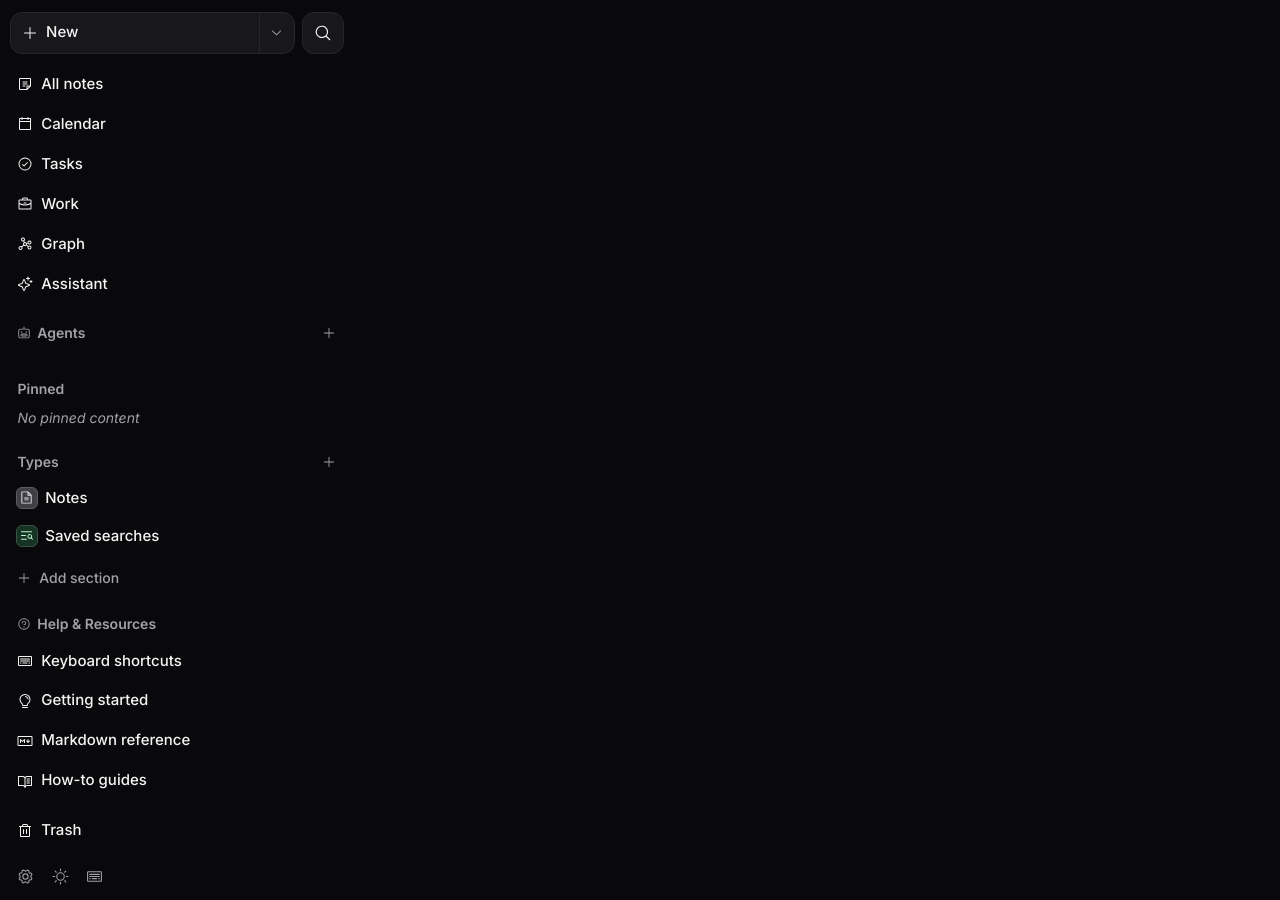
Test: Help & Resources (sidebar) › Keyboard shortcuts opens the Shortcuts sheet
The image size is (1280, 900).
Click the button "Keyboard shortcuts" at (177, 661), box [10,642,344,680]
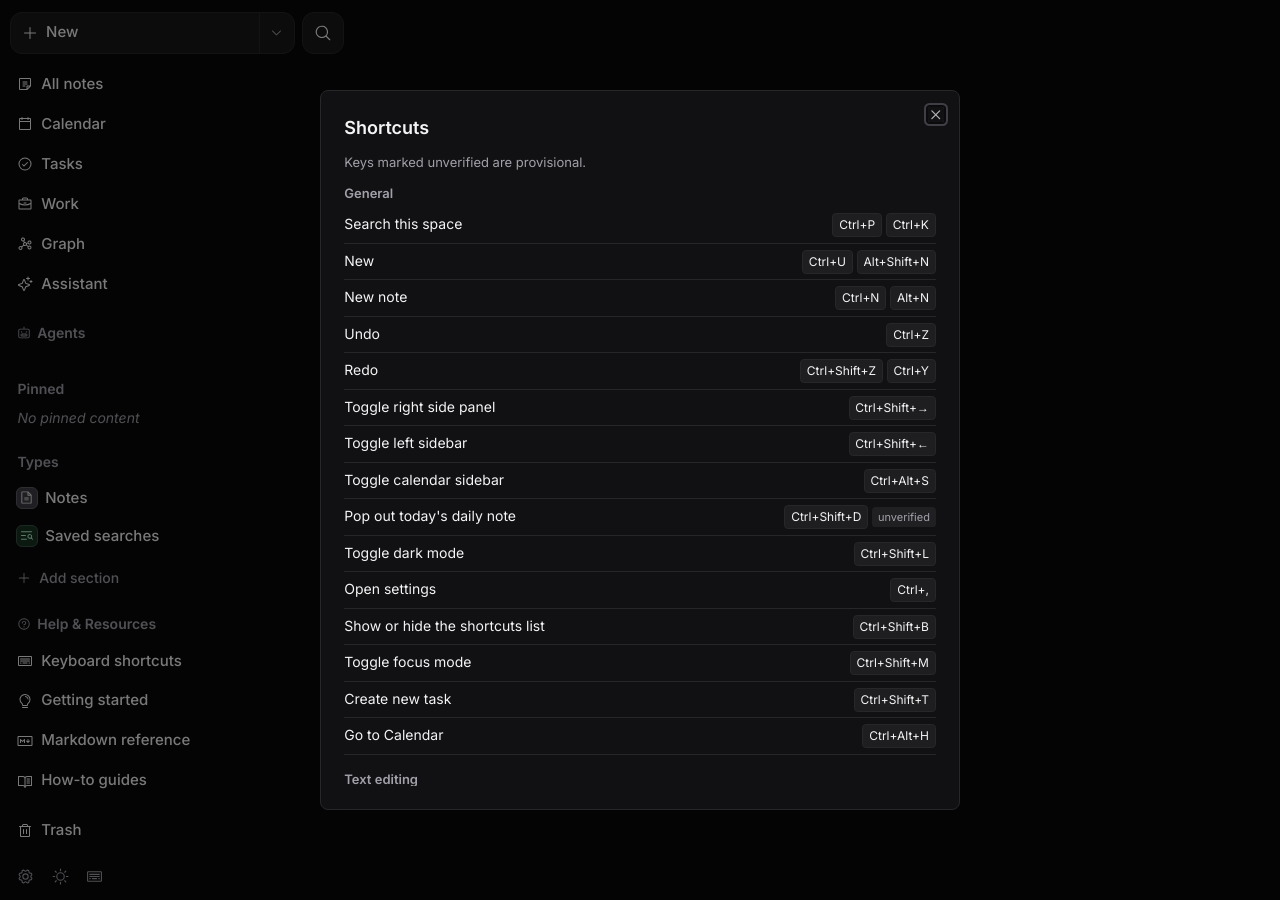
Now the dialog "Shortcuts" is shown, box [320,90,960,810]
